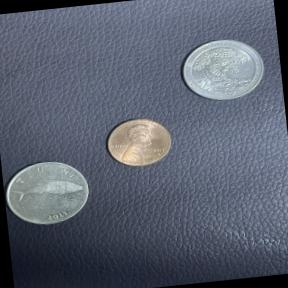Croatia-2Kune-B: (1, 152, 98, 234)
US-1cent-B: (99, 110, 178, 174)
US-25cent-B: (172, 30, 272, 110)
